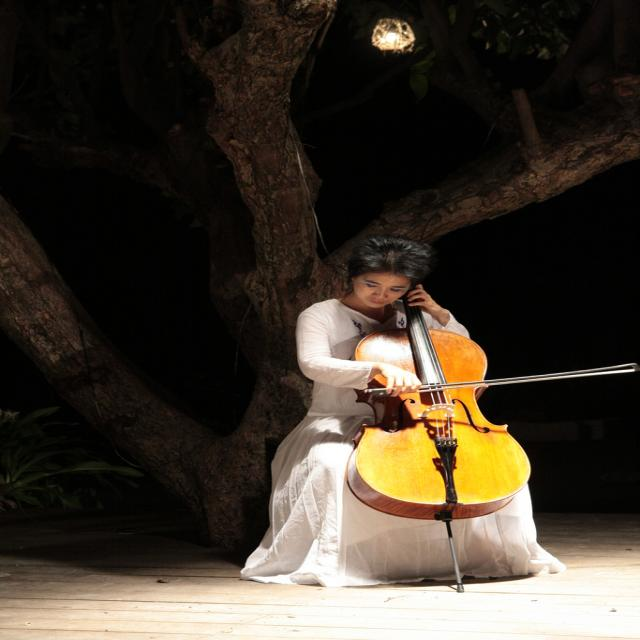cello: (353, 281, 534, 523)
